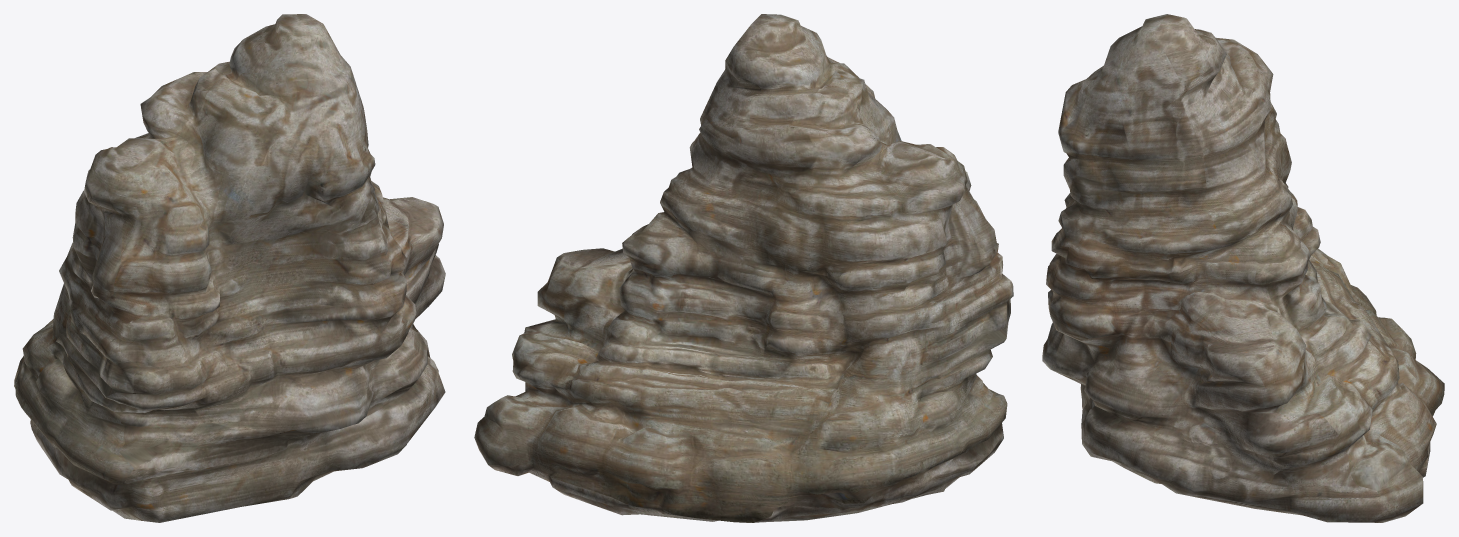
Rendered from Rock2.glb.
The picture shows the model from 3 angles, left to right: view 1: azimuth 30°, elevation 25°; view 2: azimuth 150°, elevation 25°; view 3: azimuth 270°, elevation 25°; orthographic projection. The views are drawn at different scales.
Parts seen in each view (by area): view 1: north_rock_LOD1_LOD1_LOD1_LOD008_Material #5544_0; view 2: north_rock_LOD1_LOD1_LOD1_LOD008_Material #5544_0; view 3: north_rock_LOD1_LOD1_LOD1_LOD008_Material #5544_0.
Part boxes in pixels (<box>): north_rock_LOD1_LOD1_LOD1_LOD008_Material #5544_0: <box>14,14,445,522</box>; north_rock_LOD1_LOD1_LOD1_LOD008_Material #5544_0: <box>474,14,1013,522</box>; north_rock_LOD1_LOD1_LOD1_LOD008_Material #5544_0: <box>1042,14,1444,522</box>.
Size of the model in its own units: 2.51 by 2.46 by 2.09.
Materials: 1 (1 with a texture image).
